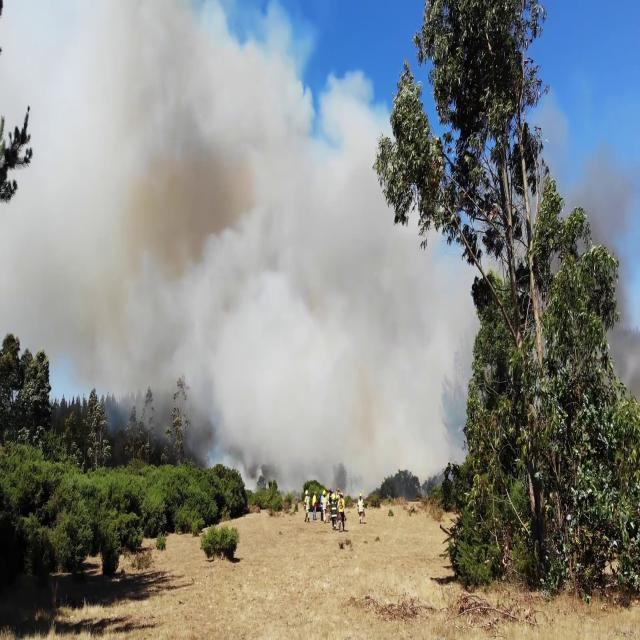Smoke: (60, 7, 476, 482)
